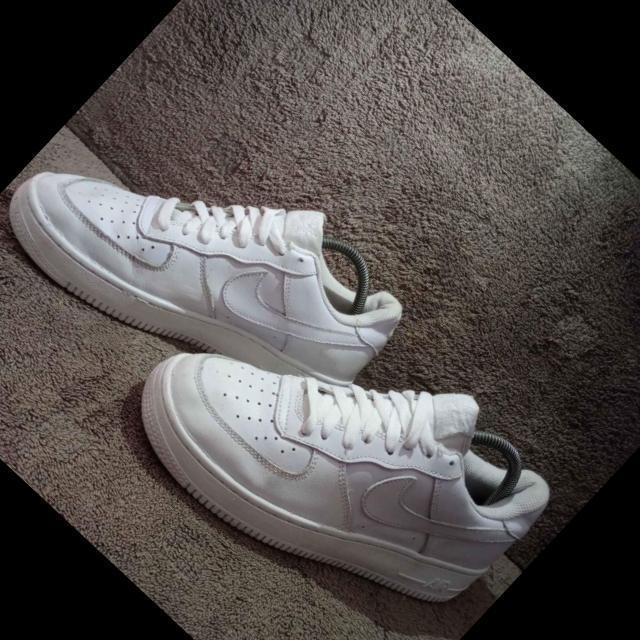nike original air force: (107, 223, 575, 640), (0, 49, 422, 480)
